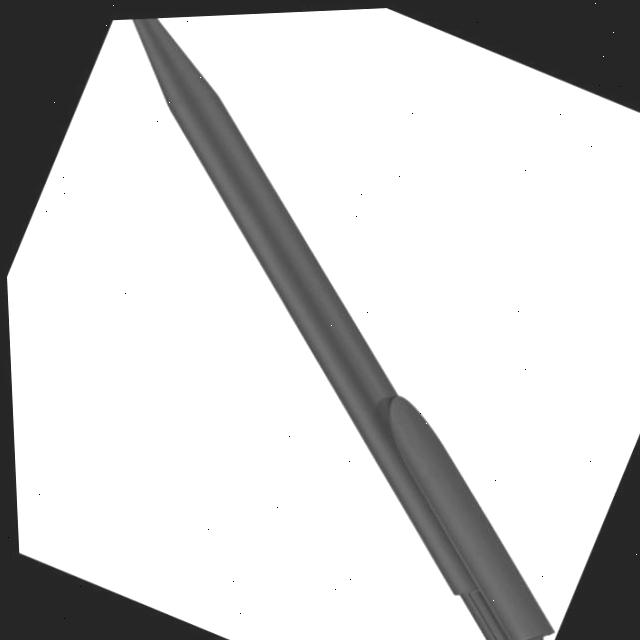pencil: (120, 16, 558, 640)
